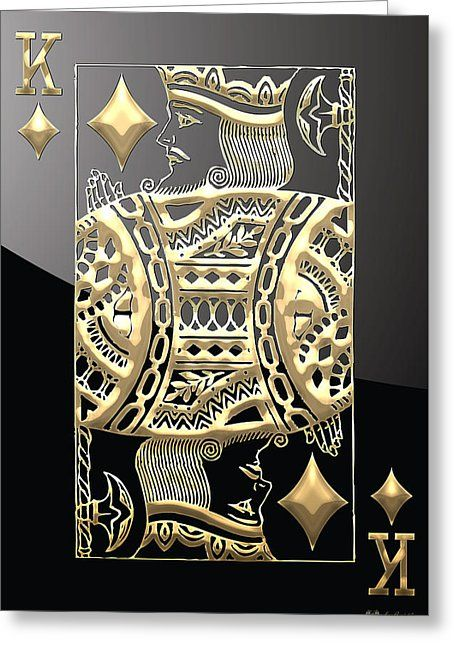king of diamonds: (5, 9, 432, 612)
